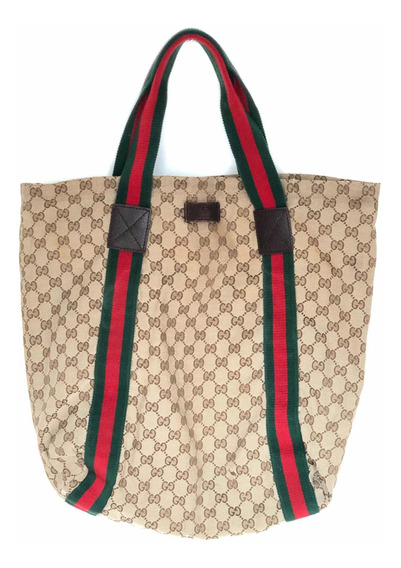cartera: (19, 28, 381, 540)
